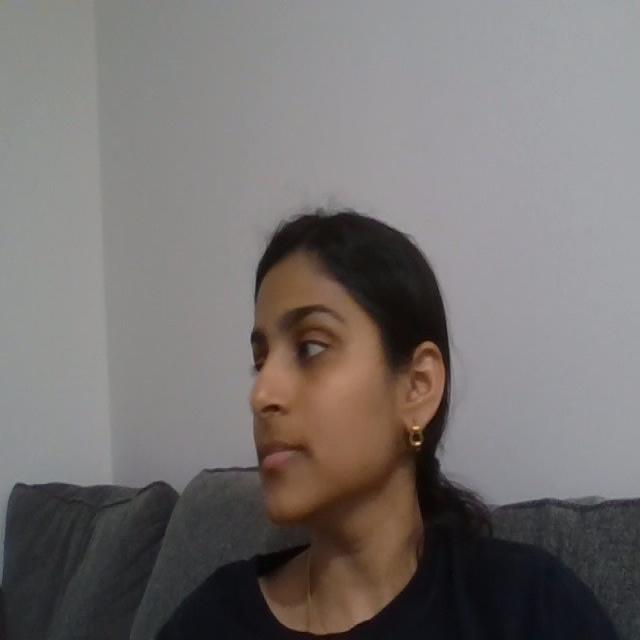No Hat: (180, 151, 429, 300)
